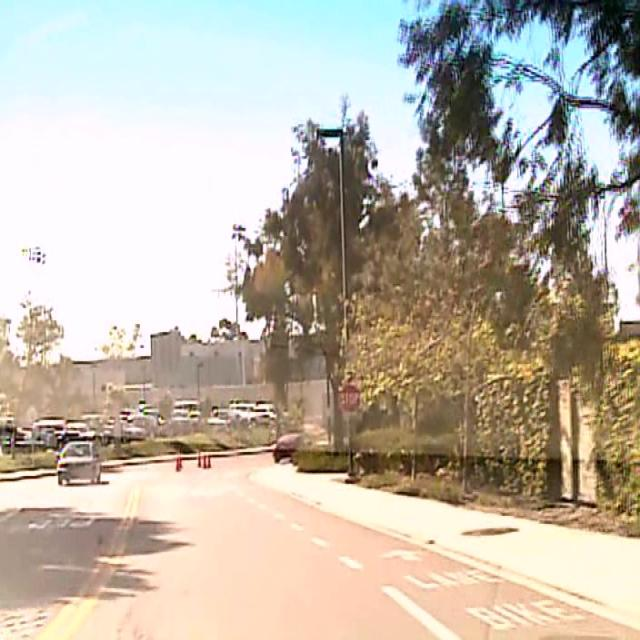stop_sign: (338, 381, 360, 412)
